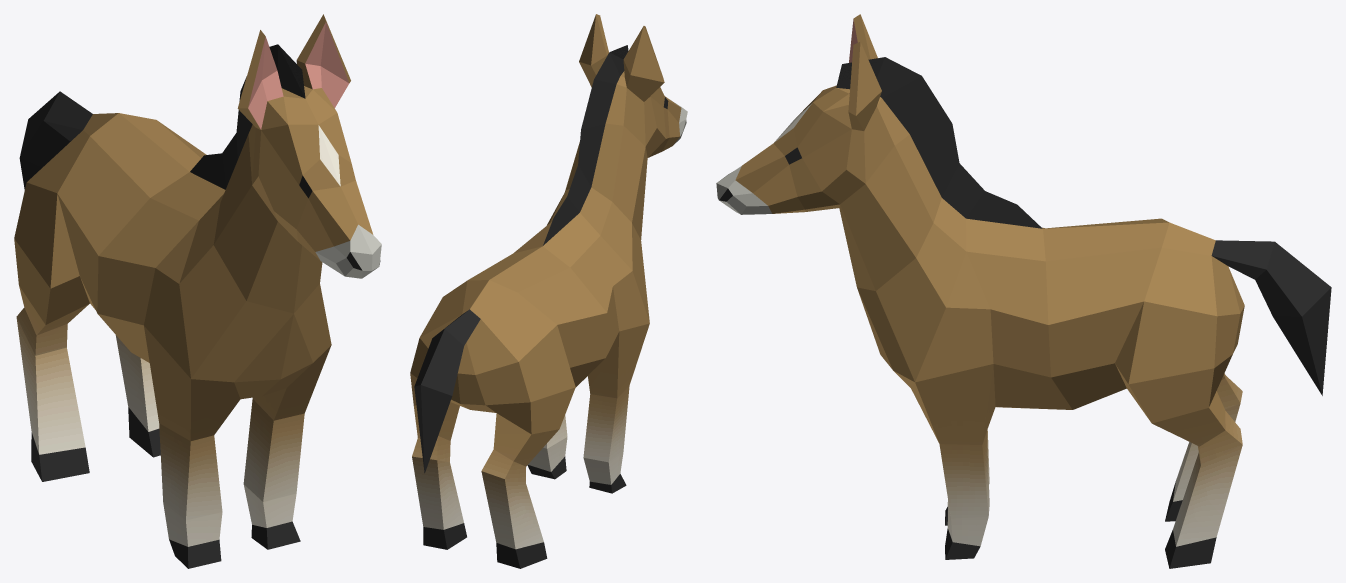
File: horse.glb
The picture shows the model from 3 angles, left to right: view 1: azimuth 30°, elevation 25°; view 2: azimuth 150°, elevation 25°; view 3: azimuth 270°, elevation 25°; orthographic projection. The views are drawn at different scales.
Parts seen in each view (by area): view 1: horse; view 2: horse; view 3: horse.
Boxes of the visible parts, x1,y1,x2,y2 form: horse: (14, 14, 381, 568); horse: (410, 14, 687, 568); horse: (716, 14, 1331, 568).
Bounding box in the file's own units: 0.3371 × 1 × 1.1.
1 material, 1 textured.
